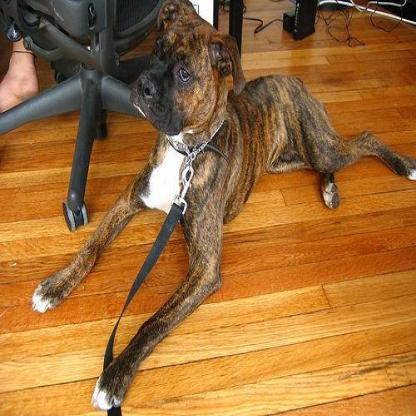boxer: (33, 1, 414, 408)
